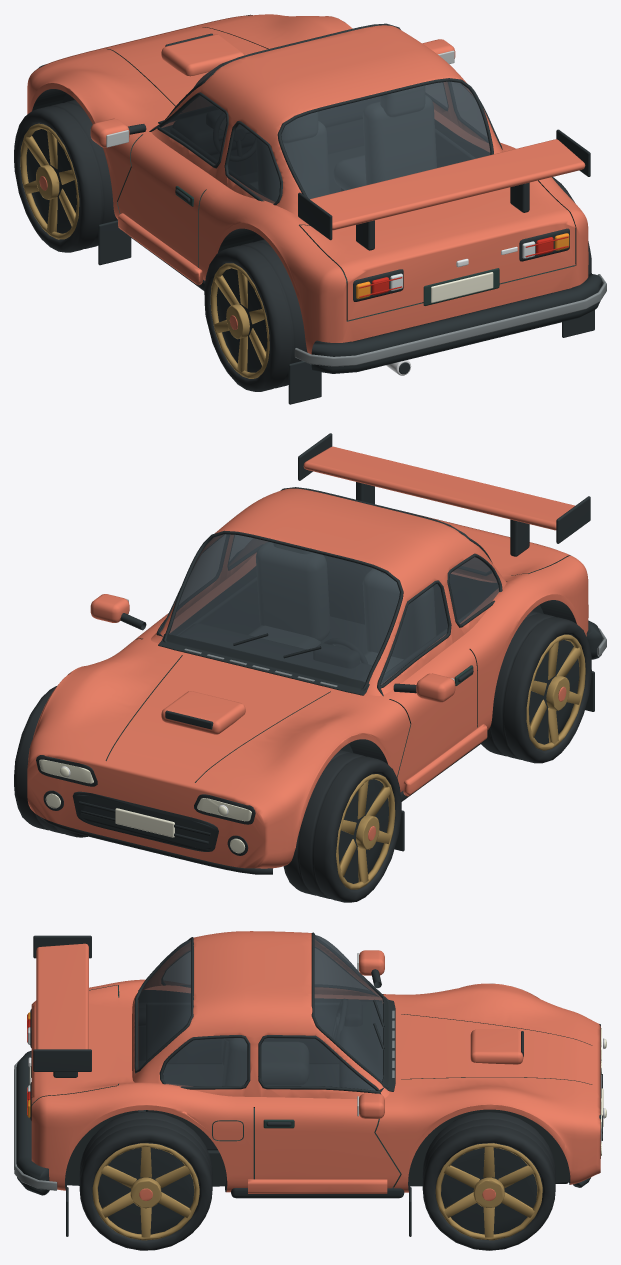
File: fubuki_lod1.fbx
3 renders of one model, top to bottom at view 1: azimuth 30°, elevation 25°; view 2: azimuth 150°, elevation 25°; view 3: azimuth 270°, elevation 25°, orthographic. The views are drawn at different scales.
Parts seen in each view (by area): view 1: Body, Wheel_RL_Mesh, Wheel_FL_Mesh; view 2: Body, Wheel_FL_Mesh, Wheel_RL_Mesh, Wheel_FR_Mesh; view 3: Body, Wheel_RR_Mesh, Wheel_FR_Mesh, Wheel_RL_Mesh.
Part boxes in pixels (bbox=[...]): Body: bbox=[27, 14, 606, 404]; Wheel_RL_Mesh: bbox=[204, 239, 307, 391]; Wheel_FL_Mesh: bbox=[14, 100, 117, 252]; Body: bbox=[27, 433, 606, 874]; Wheel_FL_Mesh: bbox=[283, 750, 401, 902]; Wheel_RL_Mesh: bbox=[481, 611, 591, 763]; Wheel_FR_Mesh: bbox=[14, 686, 87, 837]; Body: bbox=[14, 931, 606, 1236]; Wheel_RR_Mesh: bbox=[79, 1111, 212, 1250]; Wheel_FR_Mesh: bbox=[422, 1111, 555, 1250]; Wheel_RL_Mesh: bbox=[138, 1003, 146, 1060].
Size of the model in its own units: 239 by 156 by 384.
